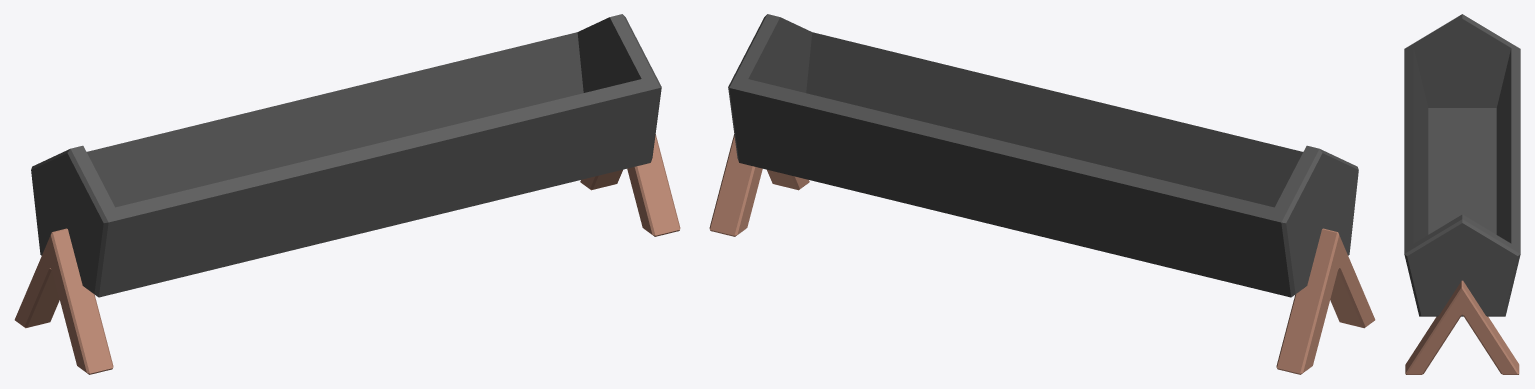
Rendered from littlefoodholder_b003.glb.
The picture shows the model from 3 angles, left to right: view 1: azimuth 30°, elevation 25°; view 2: azimuth 150°, elevation 25°; view 3: azimuth 270°, elevation 25°; orthographic projection. The views are drawn at different scales.
Visible parts, largest first — view 1: littlefoodholder_b003; view 2: littlefoodholder_b003; view 3: littlefoodholder_b003.
Boxes of the visible parts, x1,y1,x2,y2 form: littlefoodholder_b003: [14, 14, 680, 374]; littlefoodholder_b003: [709, 14, 1375, 374]; littlefoodholder_b003: [1404, 14, 1520, 374].
Size of the model in its own units: 1.59 by 0.498 by 0.3539.
Materials: 1 (1 with a texture image).
